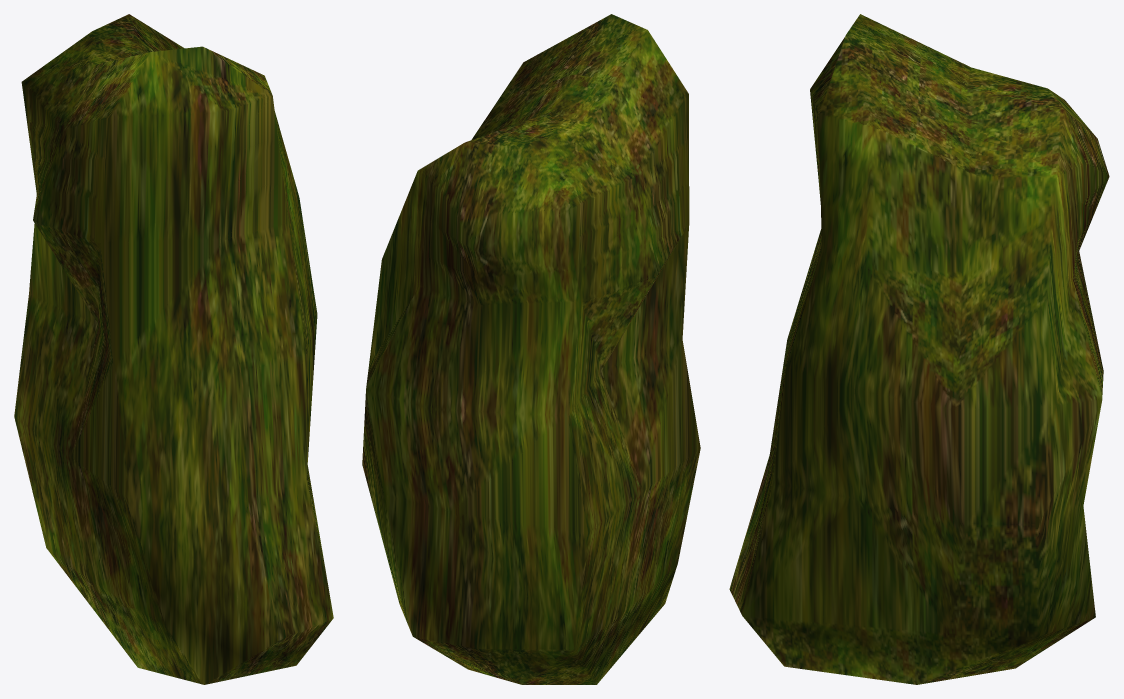
Rendered from TROLLHOLE02_RM_PSURF269.fbx.
3 renders of one model, left to right at view 1: azimuth 30°, elevation 25°; view 2: azimuth 150°, elevation 25°; view 3: azimuth 270°, elevation 25°, orthographic.
Visible parts, largest first — view 1: TROLLHOLE02_RM_PSURF269; view 2: TROLLHOLE02_RM_PSURF269; view 3: TROLLHOLE02_RM_PSURF269.
Boxes of the visible parts, x1,y1,x2,y2 form: TROLLHOLE02_RM_PSURF269: (14, 14, 333, 684); TROLLHOLE02_RM_PSURF269: (362, 14, 700, 684); TROLLHOLE02_RM_PSURF269: (729, 14, 1109, 684).
Size of the model in its own units: 44418 by 103995 by 56541.
Materials: 1 (1 with a texture image).
